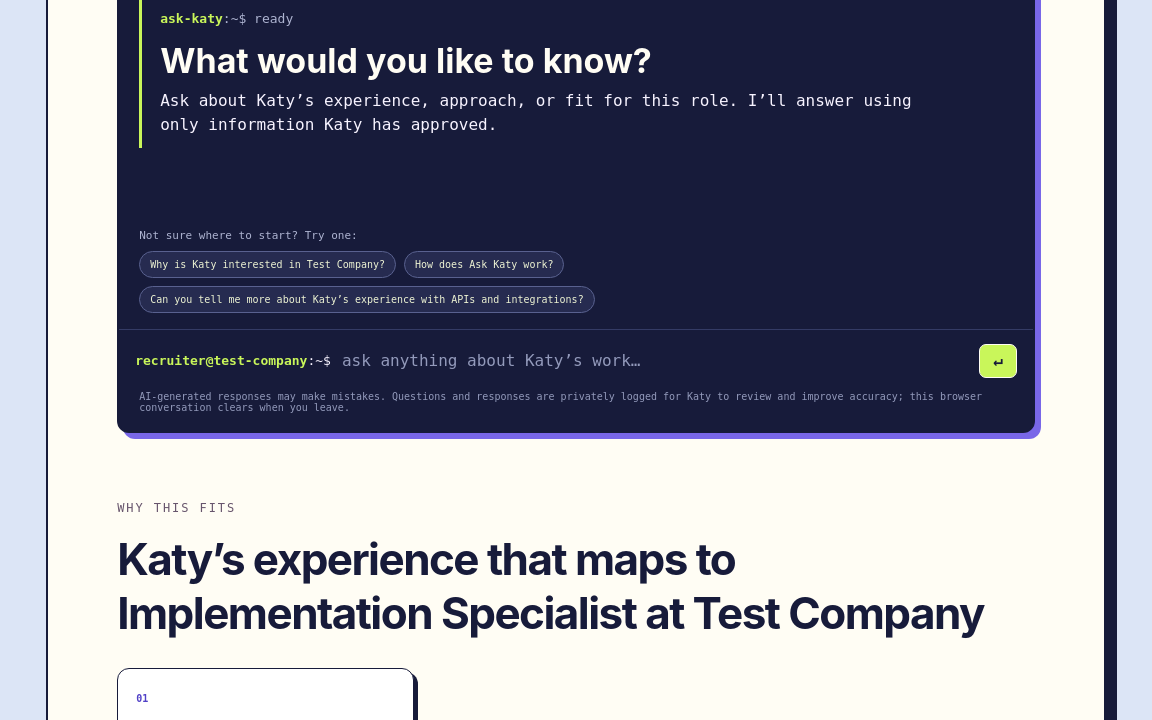
Test: explains when the chat rate limit has been reached
(page scrolled)
Type "Tell me about Katy." into the field with placeholder "ask anything about Katy’s work…".
click(655, 361); type("Tell me about Katy.")  # box [340, 350, 970, 372]
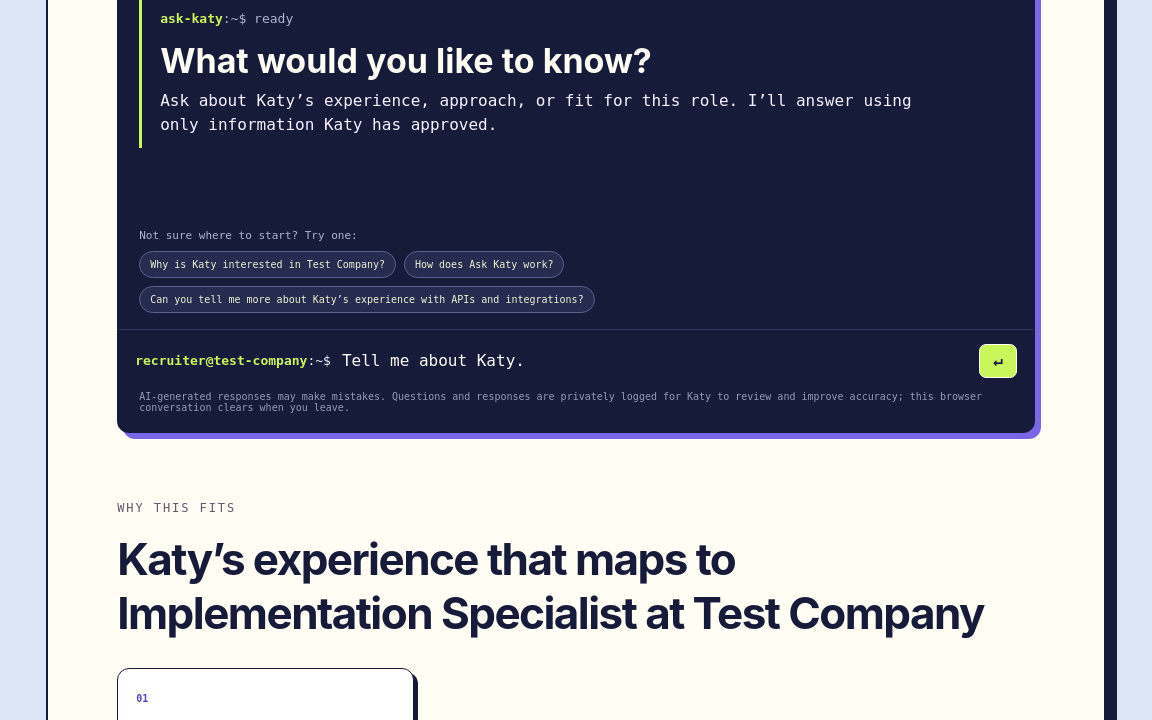
Click the button named "Ask question".
click(998, 361)  # box [979, 344, 1017, 378]
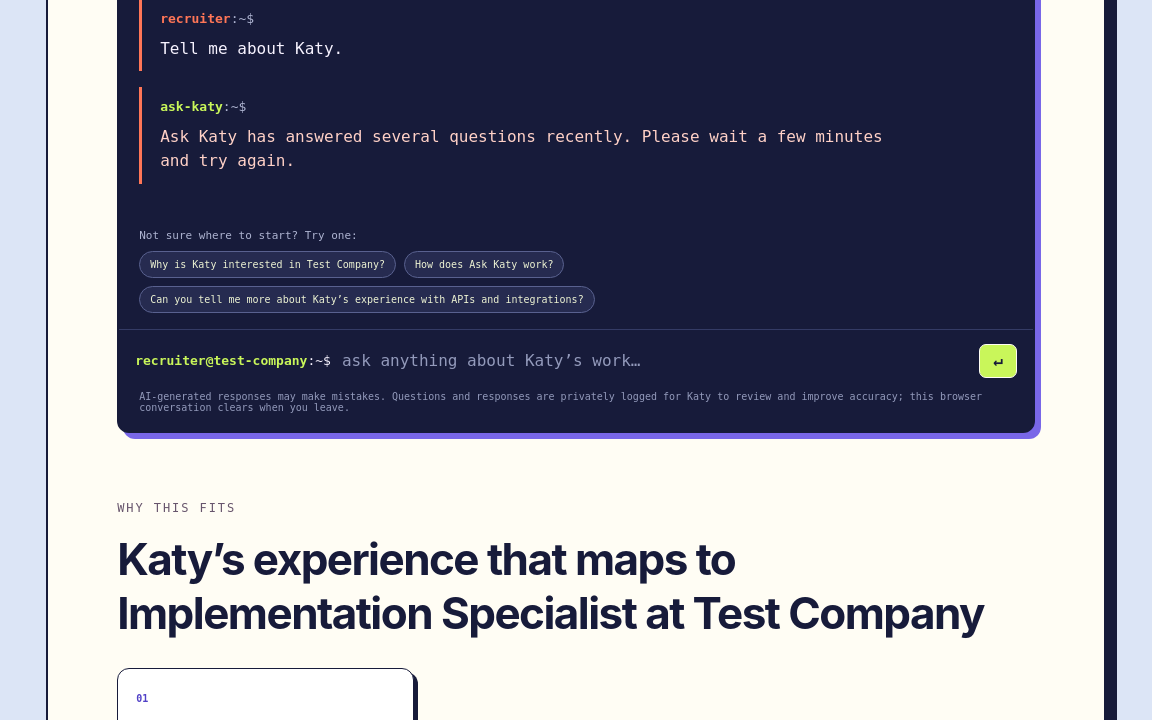
Result: the text "answered several questions recently" is shown at [160, 127, 883, 170]
